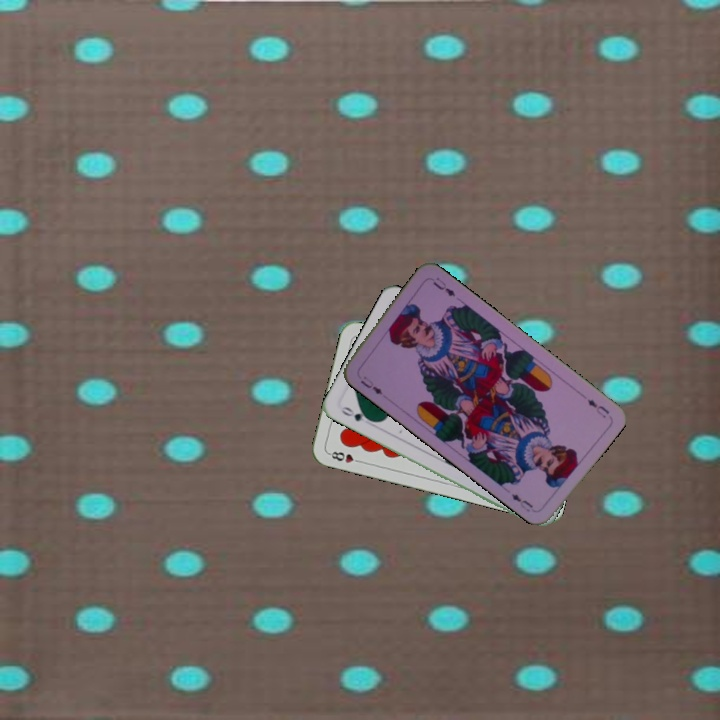EU: (356, 372, 385, 397), (583, 395, 612, 420)
GO: (337, 402, 375, 424)
H8: (325, 447, 365, 466)
